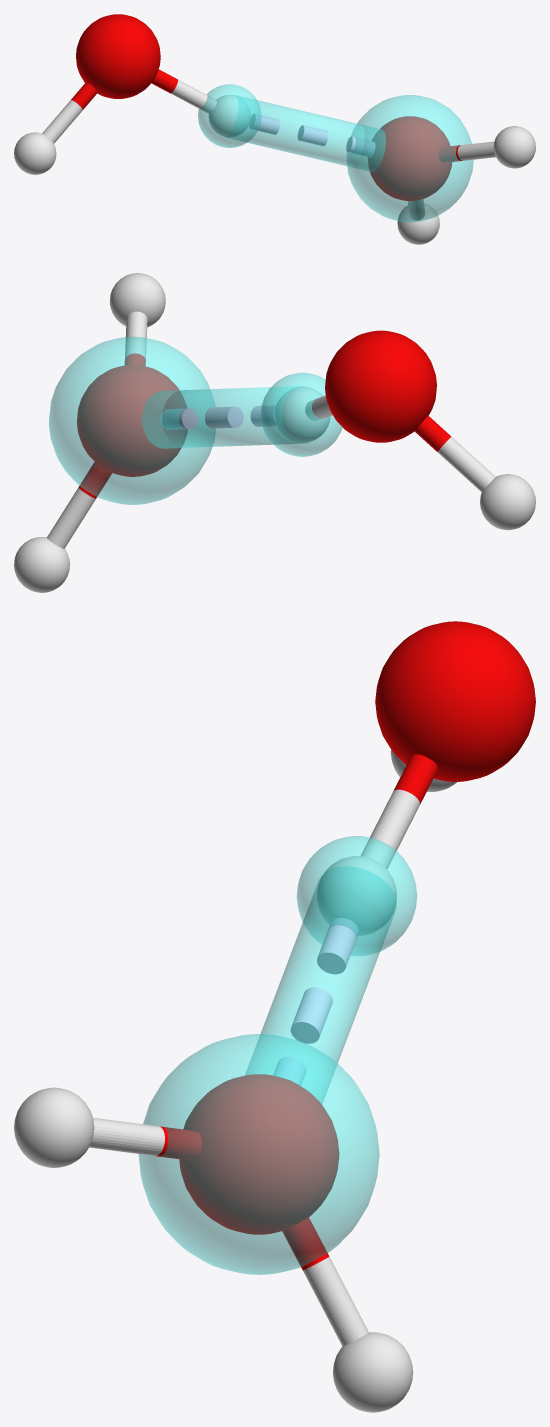
Rendered from two_waters.glb.
The picture shows the model from 3 angles, top to bottom: view 1: azimuth 30°, elevation 25°; view 2: azimuth 150°, elevation 25°; view 3: azimuth 270°, elevation 25°; orthographic projection. The views are drawn at different scales.
Visible parts, largest first — view 1: O02*highlight, O02*H04*highlight, O05, O02, H04*highlight, H03, H06, O02_H04, H04, H01, O05-H06, H04-O05 (+2 smaller); view 2: O02*highlight, O05, O02, O02*H04*highlight, H04*highlight, H06, H01, H03, H04, O02_H04, O05-H06, H01-O02 (+2 smaller); view 3: O02*highlight, O05, O02, O02*H04*highlight, H04*highlight, H03, H01, H04, H01-O02, O02_H04, H04-O05, O02-H03.
Boxes of the visible parts, <box> form: O02*highlight: <box>347,95,473,222</box>; O02*H04*highlight: <box>225,95,385,171</box>; O05: <box>76,14,160,98</box>; O02: <box>368,116,452,200</box>; H04*highlight: <box>198,84,261,147</box>; H03: <box>493,126,535,168</box>; H06: <box>14,132,56,174</box>; O02_H04: <box>249,114,375,156</box>; H04: <box>208,95,250,136</box>; H01: <box>397,203,439,244</box>; O05-H06: <box>42,82,97,143</box>; H04-O05: <box>151,69,216,114</box>; O02*highlight: <box>49,336,215,504</box>; O05: <box>325,330,436,442</box>; O02: <box>77,364,187,476</box>; O02*H04*highlight: <box>142,386,308,448</box>; H04*highlight: <box>260,372,342,456</box>; H06: <box>480,474,535,530</box>; H01: <box>14,537,69,592</box>; H03: <box>109,273,165,327</box>; H04: <box>275,386,330,442</box>; O02_H04: <box>161,405,276,429</box>; O05-H06: <box>414,416,495,492</box>; H01-O02: <box>47,462,111,548</box>; O02*highlight: <box>138,1034,379,1274</box>; O05: <box>375,621,535,781</box>; O02: <box>179,1074,339,1234</box>; O02*H04*highlight: <box>245,866,396,1103</box>; H04*highlight: <box>296,836,417,955</box>; H03: <box>14,1087,94,1167</box>; H01: <box>333,1332,413,1412</box>; H04: <box>317,856,396,935</box>; H01-O02: <box>282,1217,368,1346</box>; O02_H04: <box>273,918,358,1085</box>; H04-O05: <box>361,754,437,868</box>; O02-H03: <box>89,1117,202,1160</box>.
Bounding box in the file's own units: 3.62 × 2.3 × 2.08.
